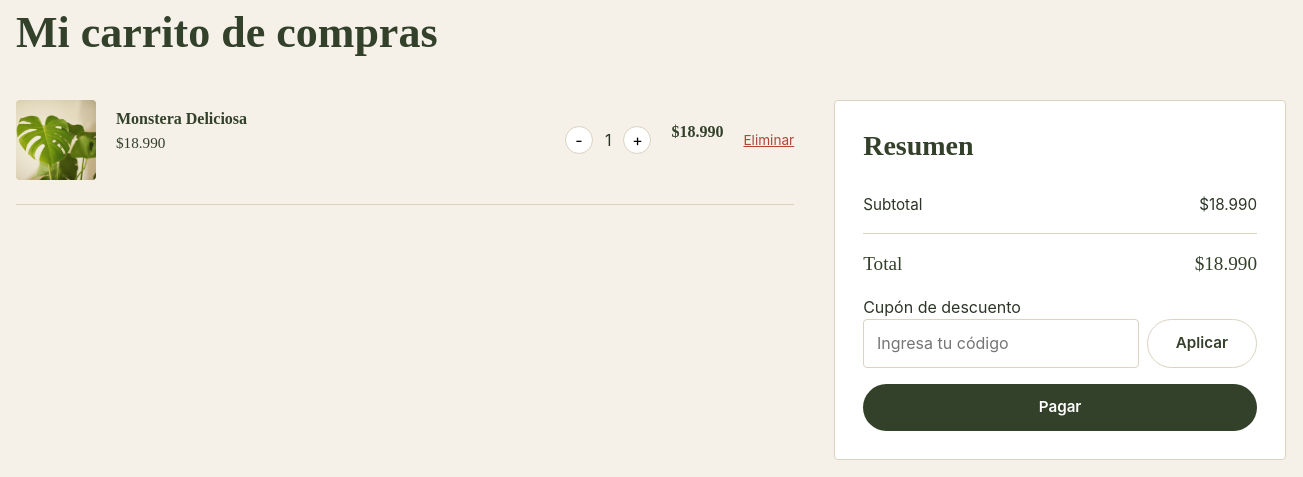
Test: Carrito › elimina un producto del carrito
Click the button with aria-label "eliminar monstera": {"x": 769, "y": 140} [743, 130, 794, 150]
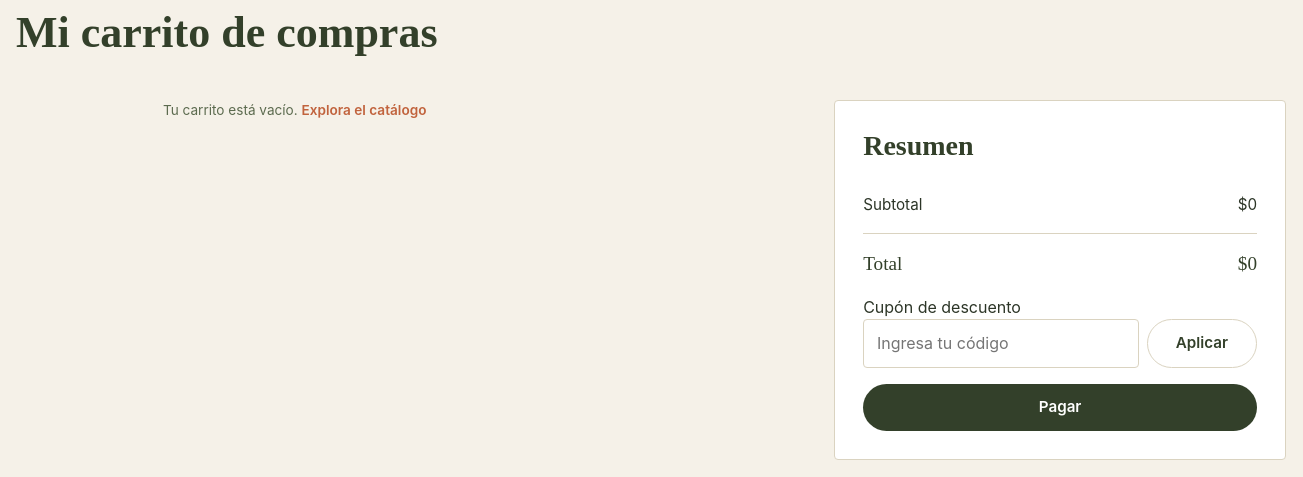
Now the text "Tu carrito está vacío. Explora el catálogo" is shown, box [163, 102, 426, 118]
